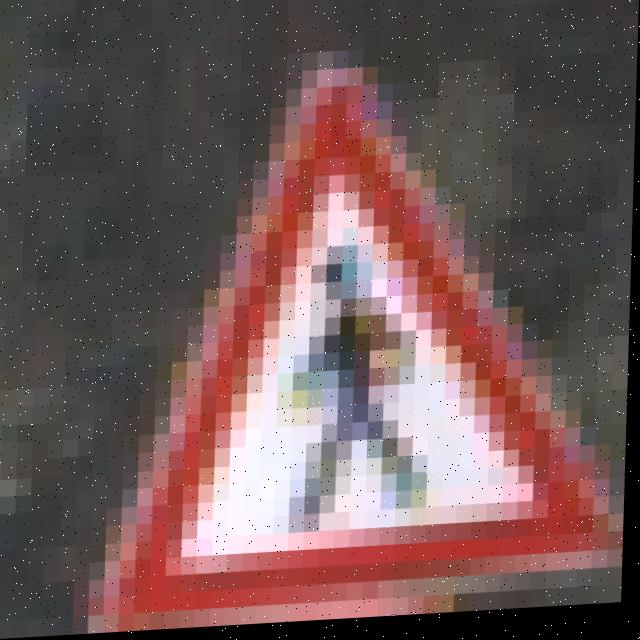crosswalk: (74, 69, 637, 581)
